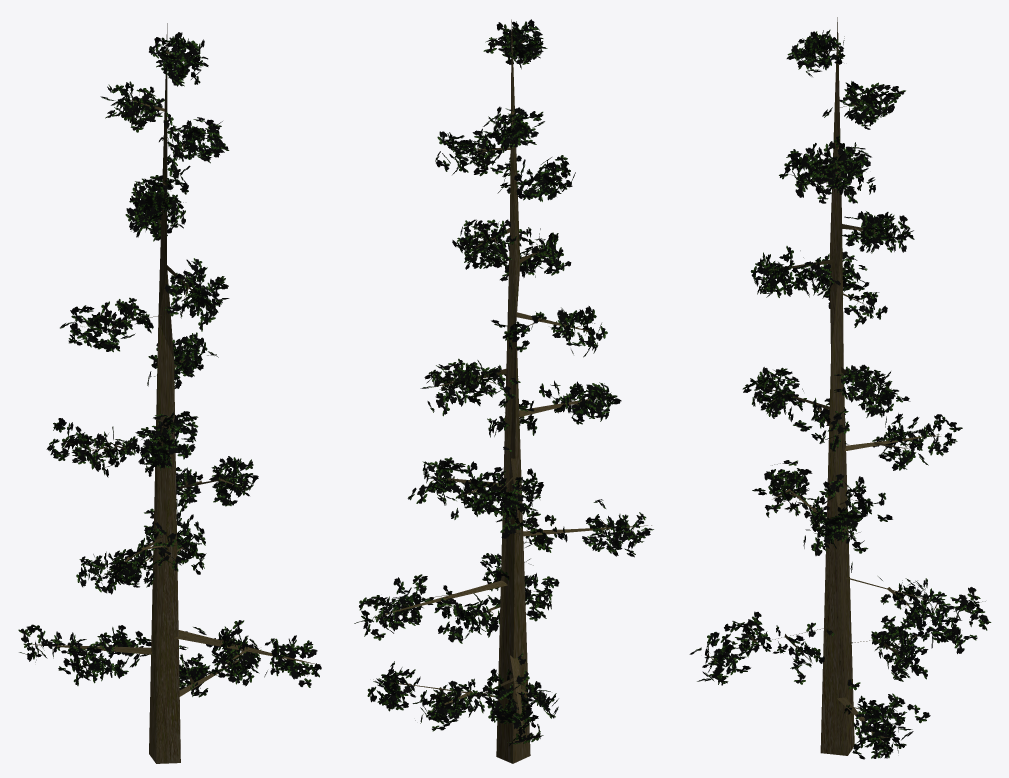
File: spruce_conifer_v02_LOD2.fbx
3 renders of one model, left to right at view 1: azimuth 30°, elevation 25°; view 2: azimuth 150°, elevation 25°; view 3: azimuth 270°, elevation 25°, orthographic.
Visible parts, largest first — view 1: spruce_conifer_v02_LOD2; view 2: spruce_conifer_v02_LOD2; view 3: spruce_conifer_v02_LOD2.
Part boxes in pixels (bbox=[...]): spruce_conifer_v02_LOD2: bbox=[18, 23, 321, 763]; spruce_conifer_v02_LOD2: bbox=[354, 19, 653, 763]; spruce_conifer_v02_LOD2: bbox=[689, 17, 991, 759].
Size of the model in its own units: 905 by 1060 by 2794.
Materials: 2 (2 with a texture image).
